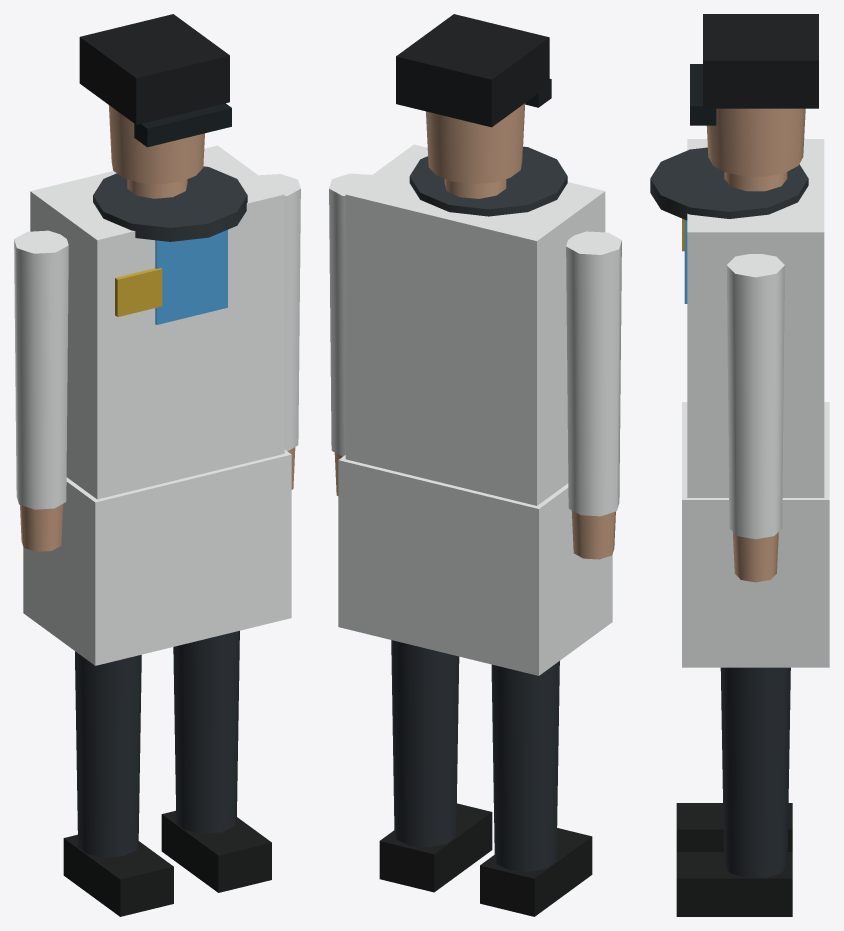
Rendered from dr_speed_placeholder.glb.
The picture shows the model from 3 angles, left to right: view 1: azimuth 30°, elevation 25°; view 2: azimuth 150°, elevation 25°; view 3: azimuth 270°, elevation 25°; orthographic projection. The views are drawn at different scales.
Visible parts, largest first — view 1: Character_DrSpeed_Placeholder, LeftLeg, RightLeg, LeftArm, RightArm; view 2: Character_DrSpeed_Placeholder, LeftLeg, RightLeg, LeftArm, RightArm; view 3: Character_DrSpeed_Placeholder, RightLeg, RightArm, LeftLeg.
Part boxes in pixels (x1,y1,x2,y2): Character_DrSpeed_Placeholder: [23, 14, 291, 665]; LeftLeg: [63, 651, 173, 916]; RightLeg: [161, 630, 271, 892]; LeftArm: [14, 230, 68, 551]; RightArm: [259, 174, 300, 489]; Character_DrSpeed_Placeholder: [338, 14, 612, 675]; LeftLeg: [480, 661, 592, 916]; RightLeg: [379, 640, 492, 892]; LeftArm: [566, 231, 621, 559]; RightArm: [329, 173, 371, 495]; Character_DrSpeed_Placeholder: [650, 14, 829, 667]; RightLeg: [676, 667, 792, 916]; RightArm: [726, 254, 784, 582]; LeftLeg: [676, 803, 792, 851].
Bounding box in the file's own units: 0.63 × 1.76 × 0.34.
